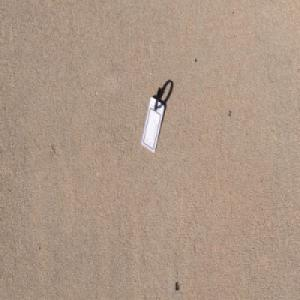LuggageTag: (141, 85, 165, 153)
